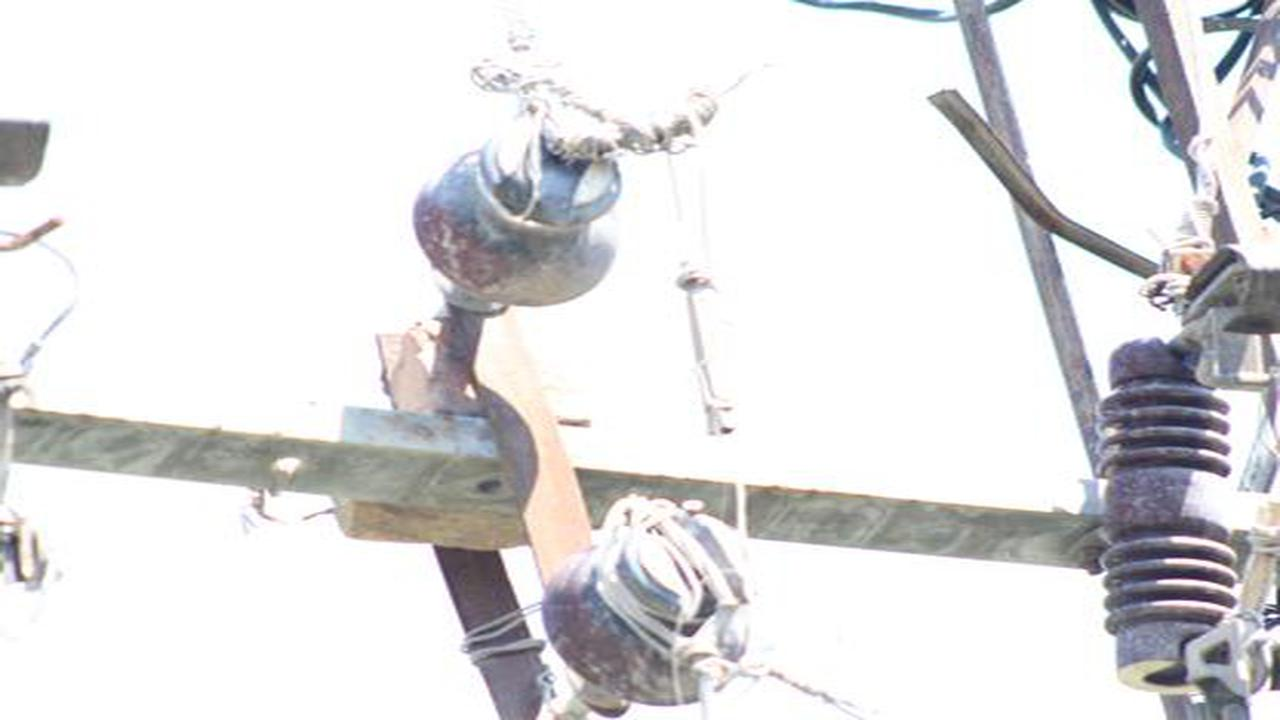insulator_pin: (538, 484, 762, 712), (413, 100, 633, 319)
